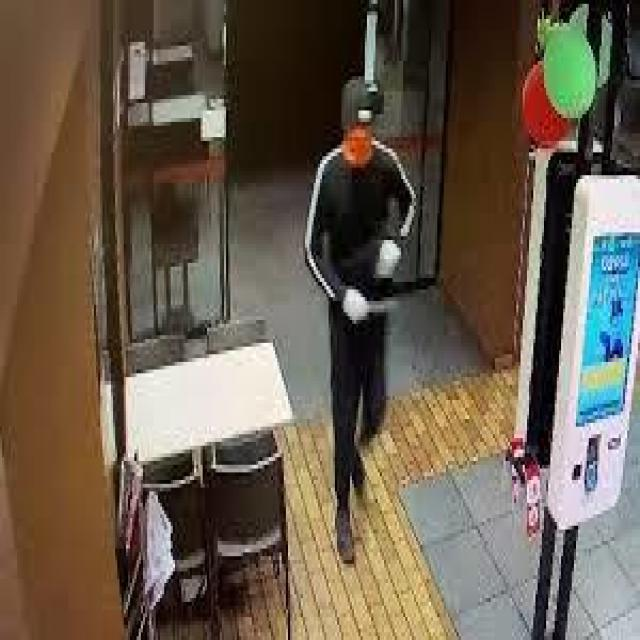weapon: (358, 289, 401, 324)
